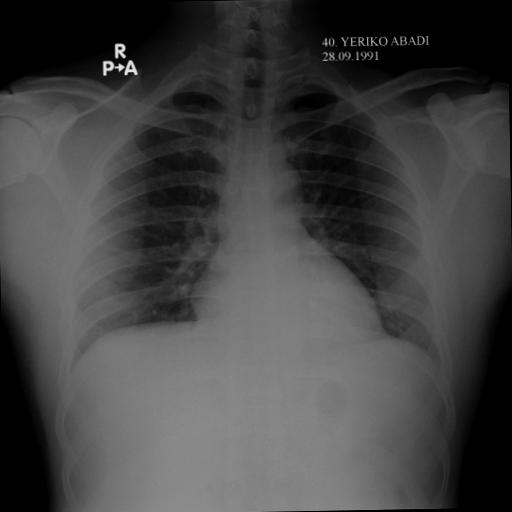kardiomegali: (46, 34, 444, 378)
